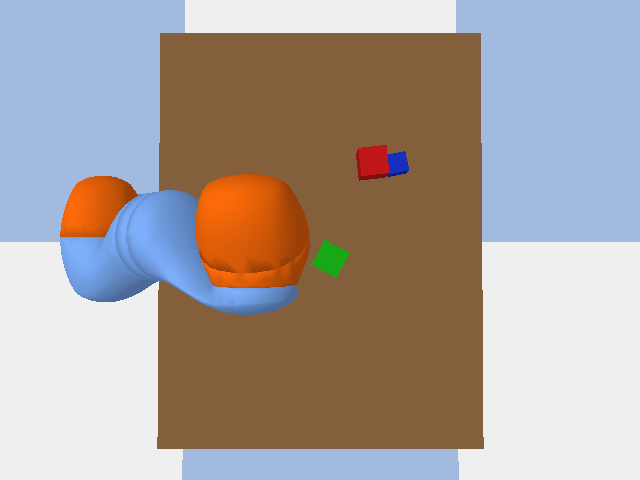blue_obj: (387, 151, 408, 176)
green_obj: (311, 240, 349, 277)
red_obj: (356, 145, 389, 180)
